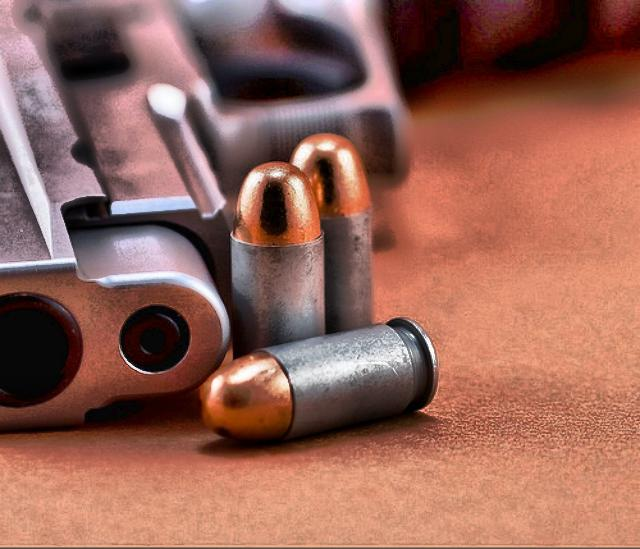pistol: (0, 0, 412, 432)
